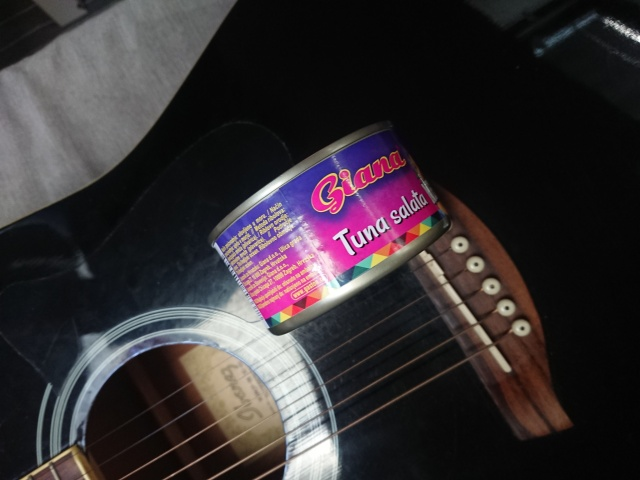Giana Tuna Salad Mexico 185g: (201, 118, 453, 339)
